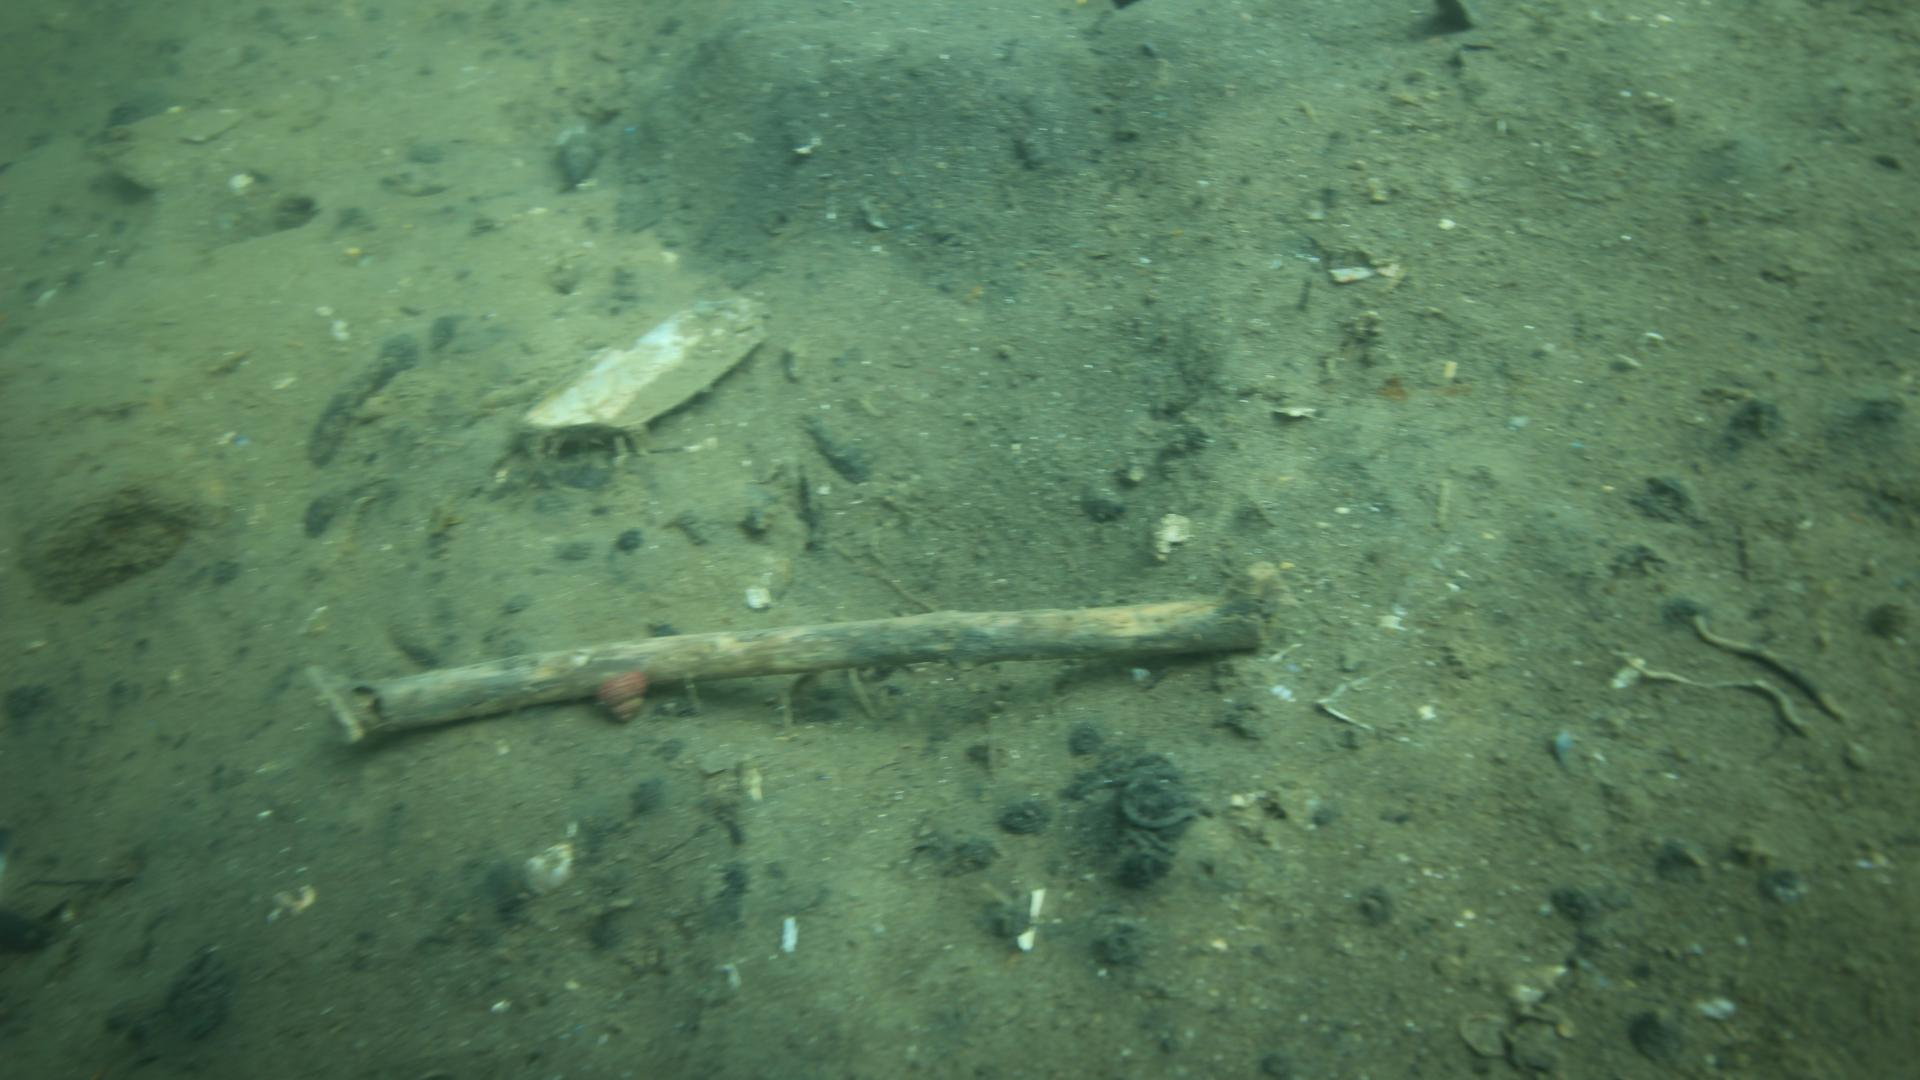wood: (349, 597, 1220, 727)
